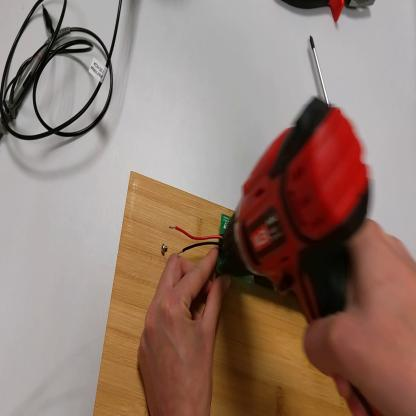electric screwdriver: (219, 99, 375, 322)
hand: (304, 216, 416, 416), (138, 245, 229, 414)
high voltage board: (170, 213, 270, 288)
oscilloscope probe tip: (1, 22, 71, 141)
pliers: (278, 2, 375, 23)
screwdriver-: (311, 34, 330, 106)
working area: (94, 173, 348, 416)
